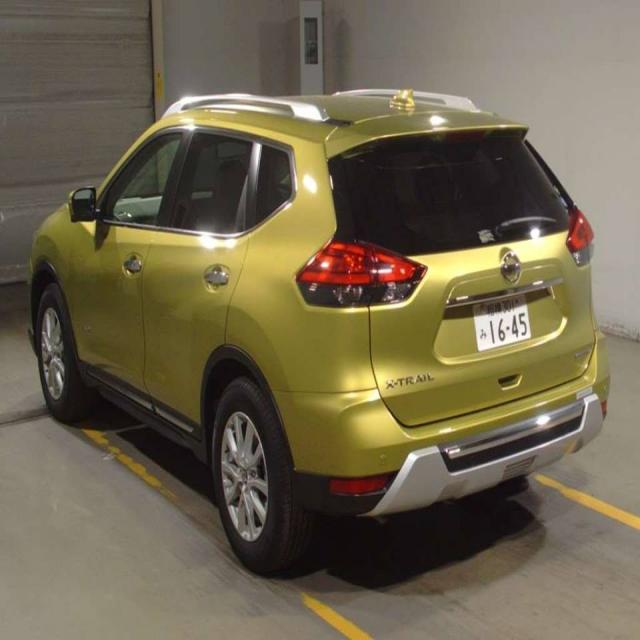car: (14, 54, 629, 593)
